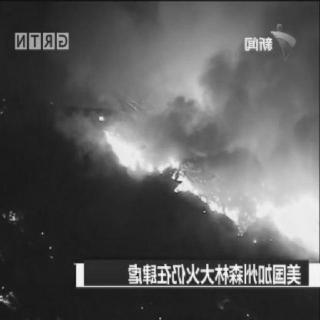Fire: (176, 170, 316, 249), (98, 115, 198, 199)
Smoke: (162, 5, 316, 144)
